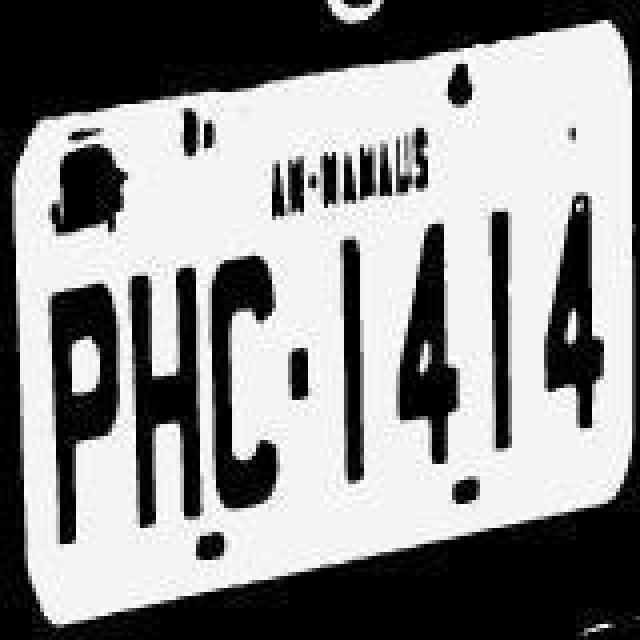1: (326, 236, 378, 492), (478, 214, 530, 450)
4: (532, 178, 612, 446), (394, 216, 470, 472)
C: (208, 252, 288, 524)
H: (128, 266, 208, 534)
P: (44, 274, 124, 550)
